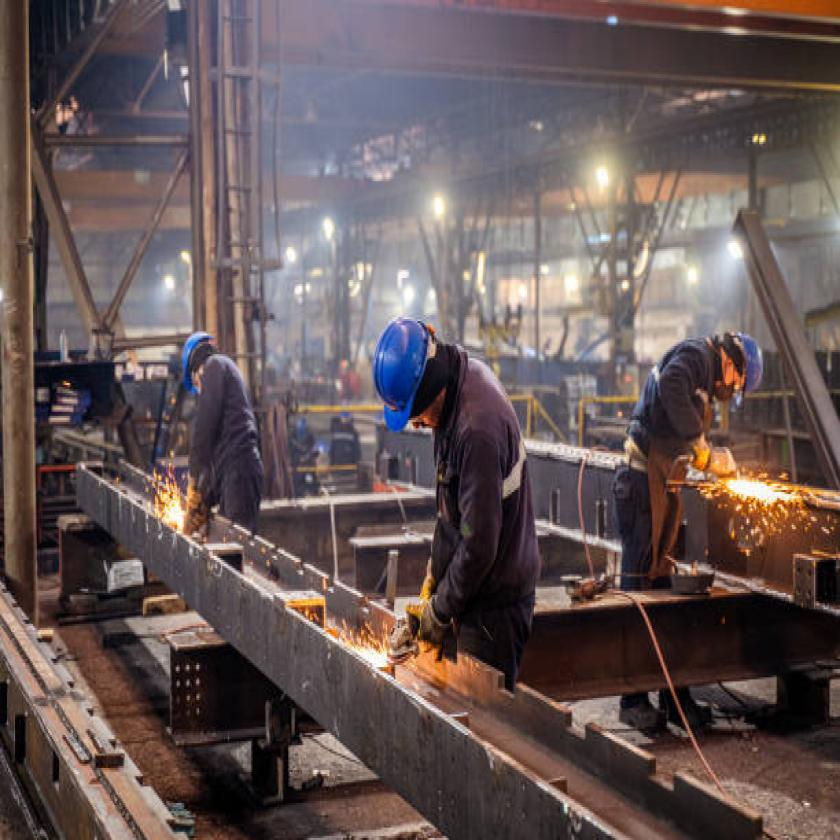Con_casco: (373, 292, 474, 448), (713, 308, 774, 420), (159, 316, 230, 404)
